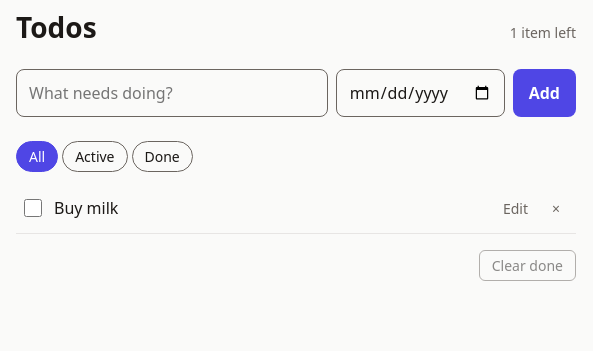
Test: App › reverts the checkbox and shows an error when update fails
Click the checkbox labelled "Buy milk": (33, 208) top-left (24, 199), bottom-right (42, 217)
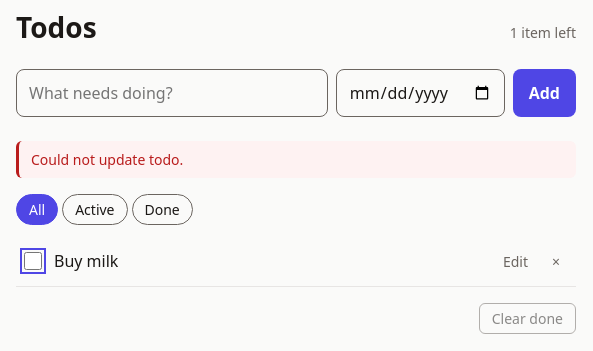
Expected: the checkbox labelled "Buy milk" is not checked, top-left (24, 252), bottom-right (42, 270)
Expected: the message reads "Could not update todo.", top-left (31, 150), bottom-right (183, 169)
